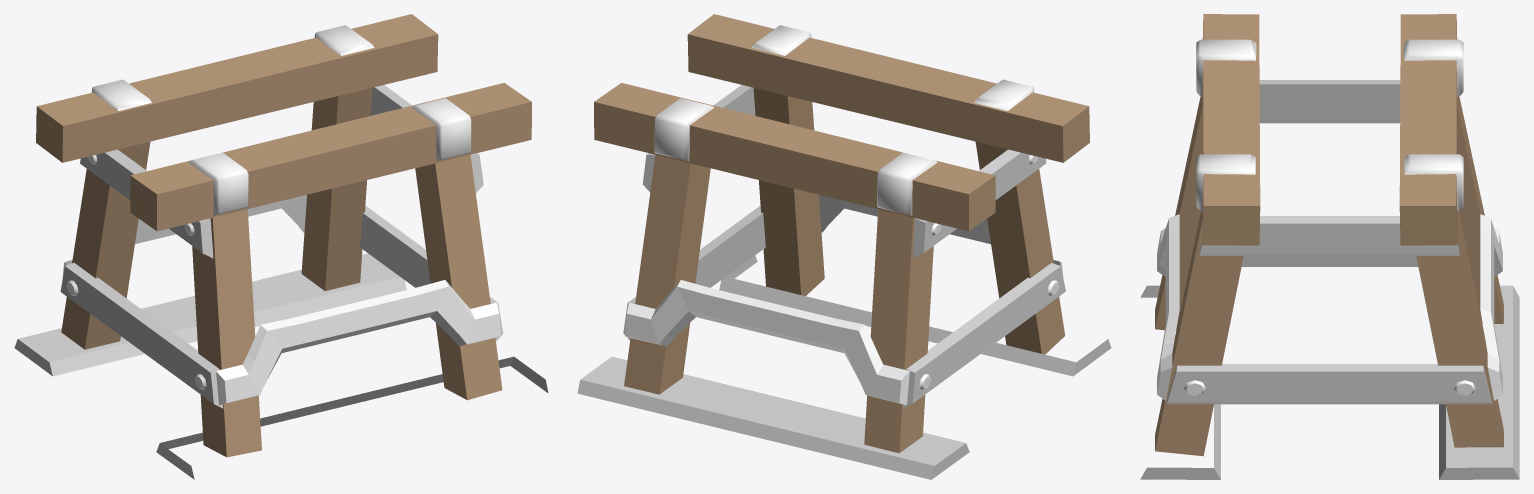
The model's file is whetstone.glb.
3 renders of one model, left to right at view 1: azimuth 30°, elevation 25°; view 2: azimuth 150°, elevation 25°; view 3: azimuth 270°, elevation 25°, orthographic. The views are drawn at different scales.
Visible parts, largest first — view 1: Whetstone; view 2: Whetstone; view 3: Whetstone.
Boxes of the visible parts, box(x1,y1,x2,y2) form: Whetstone: box(14, 14, 548, 479); Whetstone: box(577, 14, 1111, 479); Whetstone: box(1140, 14, 1519, 479).
Size of the model in its own units: 1 by 0.6881 by 0.8314.
